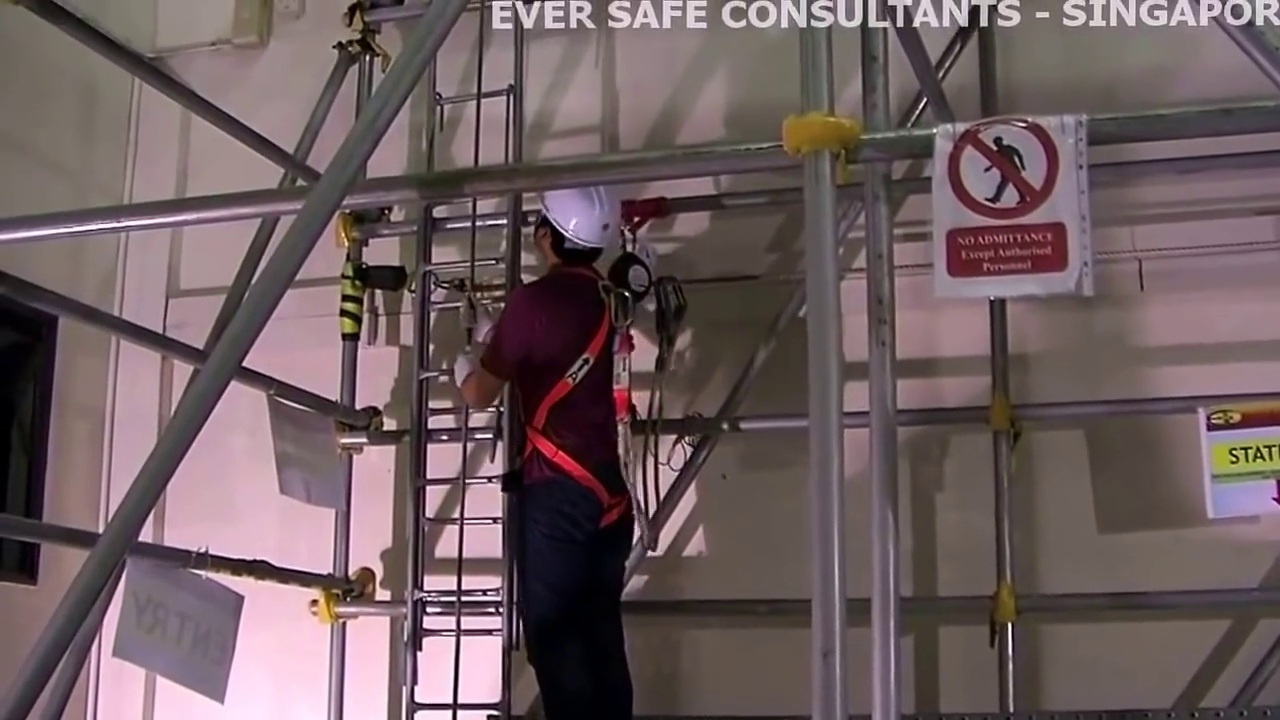harness: (542, 291, 629, 533)
helmet: (542, 191, 617, 243)
hook: (648, 274, 693, 332)
leash: (640, 376, 670, 532)
